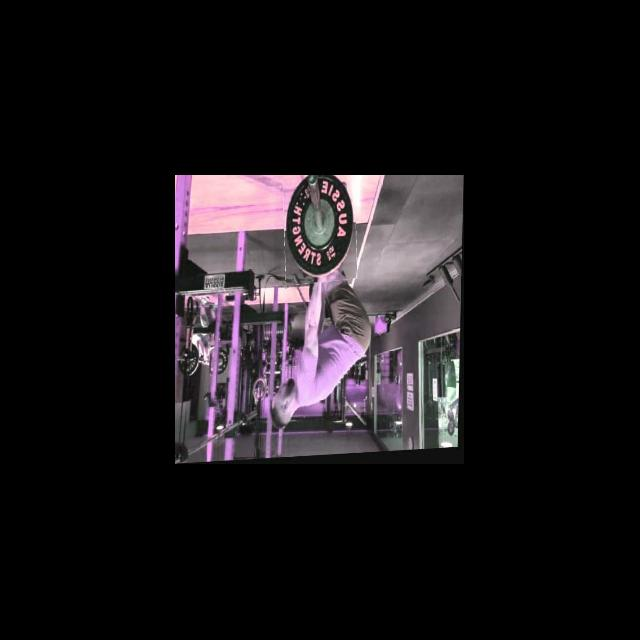barbell: (282, 175, 358, 286)
